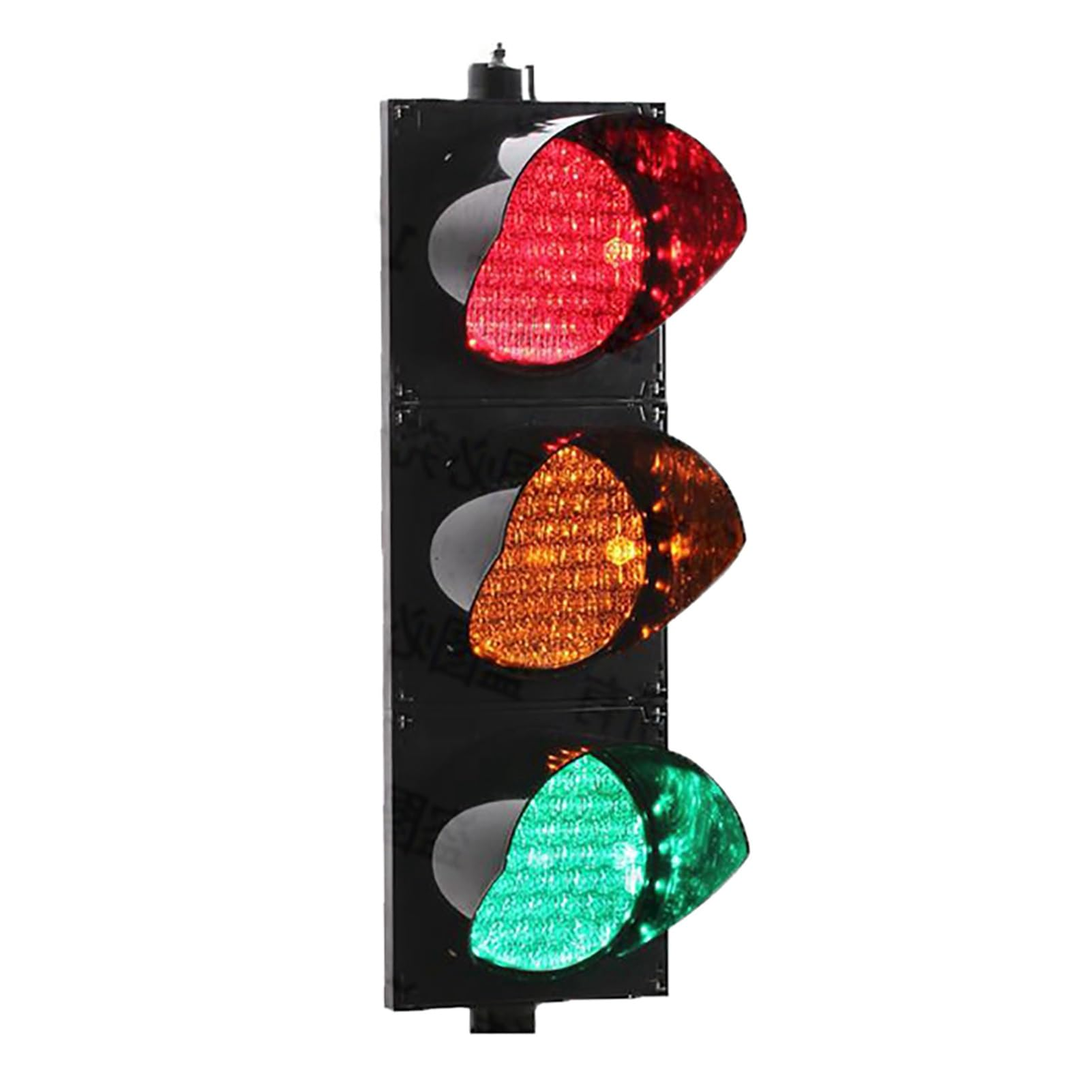TraficLight: (352, 29, 775, 1077)
